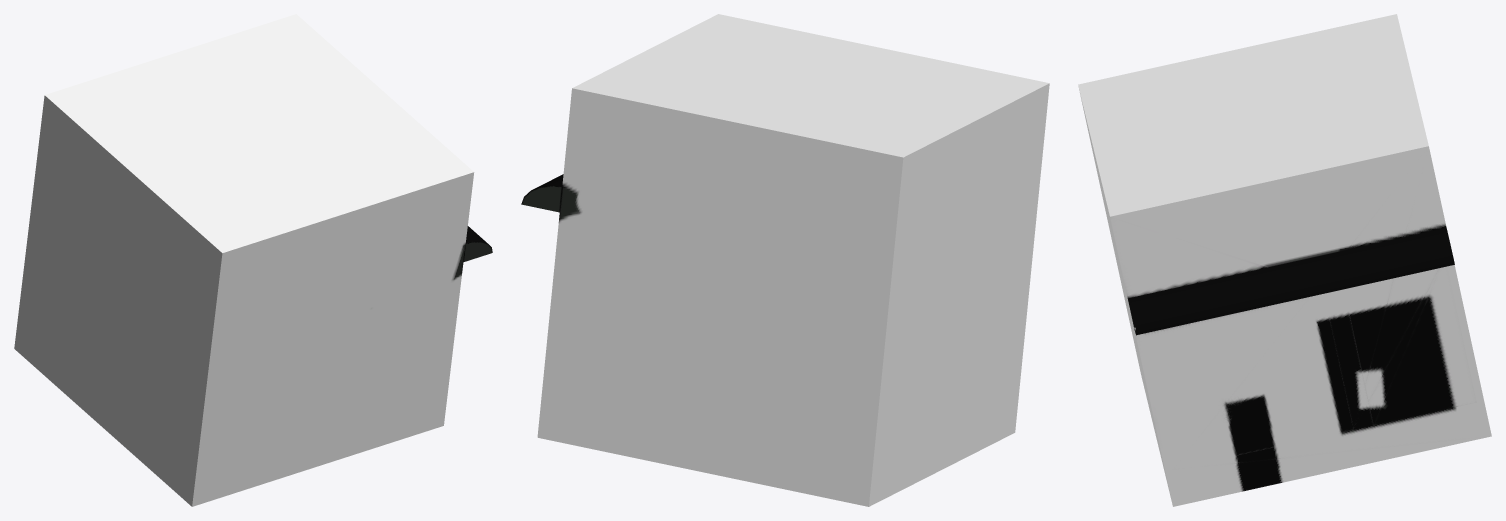
The model's file is BuildingD.fbx.
3 views of the same model, side by side, from view 1: azimuth 30°, elevation 25°; view 2: azimuth 150°, elevation 25°; view 3: azimuth 270°, elevation 25° (orthographic). The views are drawn at different scales.
Visible parts, largest first — view 1: node_id20, node_id16; view 2: node_id20, node_id16; view 3: node_id20, node_id16.
Boxes of the visible parts, <box> form: node_id20: <box>14,14,474,506</box>; node_id16: <box>461,226,492,262</box>; node_id20: <box>537,14,1049,506</box>; node_id16: <box>521,174,564,212</box>; node_id20: <box>1078,14,1491,506</box>; node_id16: <box>1127,228,1454,335</box>.
Size of the model in its own units: 0.4155 by 0.4085 by 0.4346.
Materials: 2 (2 with a texture image).
